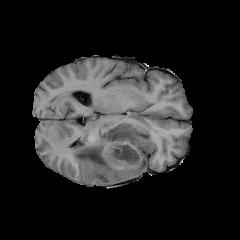glioma: (68, 80, 150, 183)
